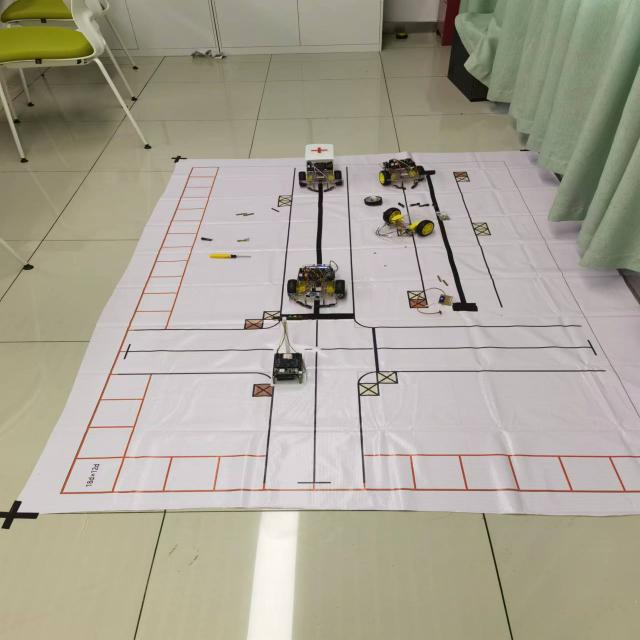RedCross: (310, 146, 329, 154)
